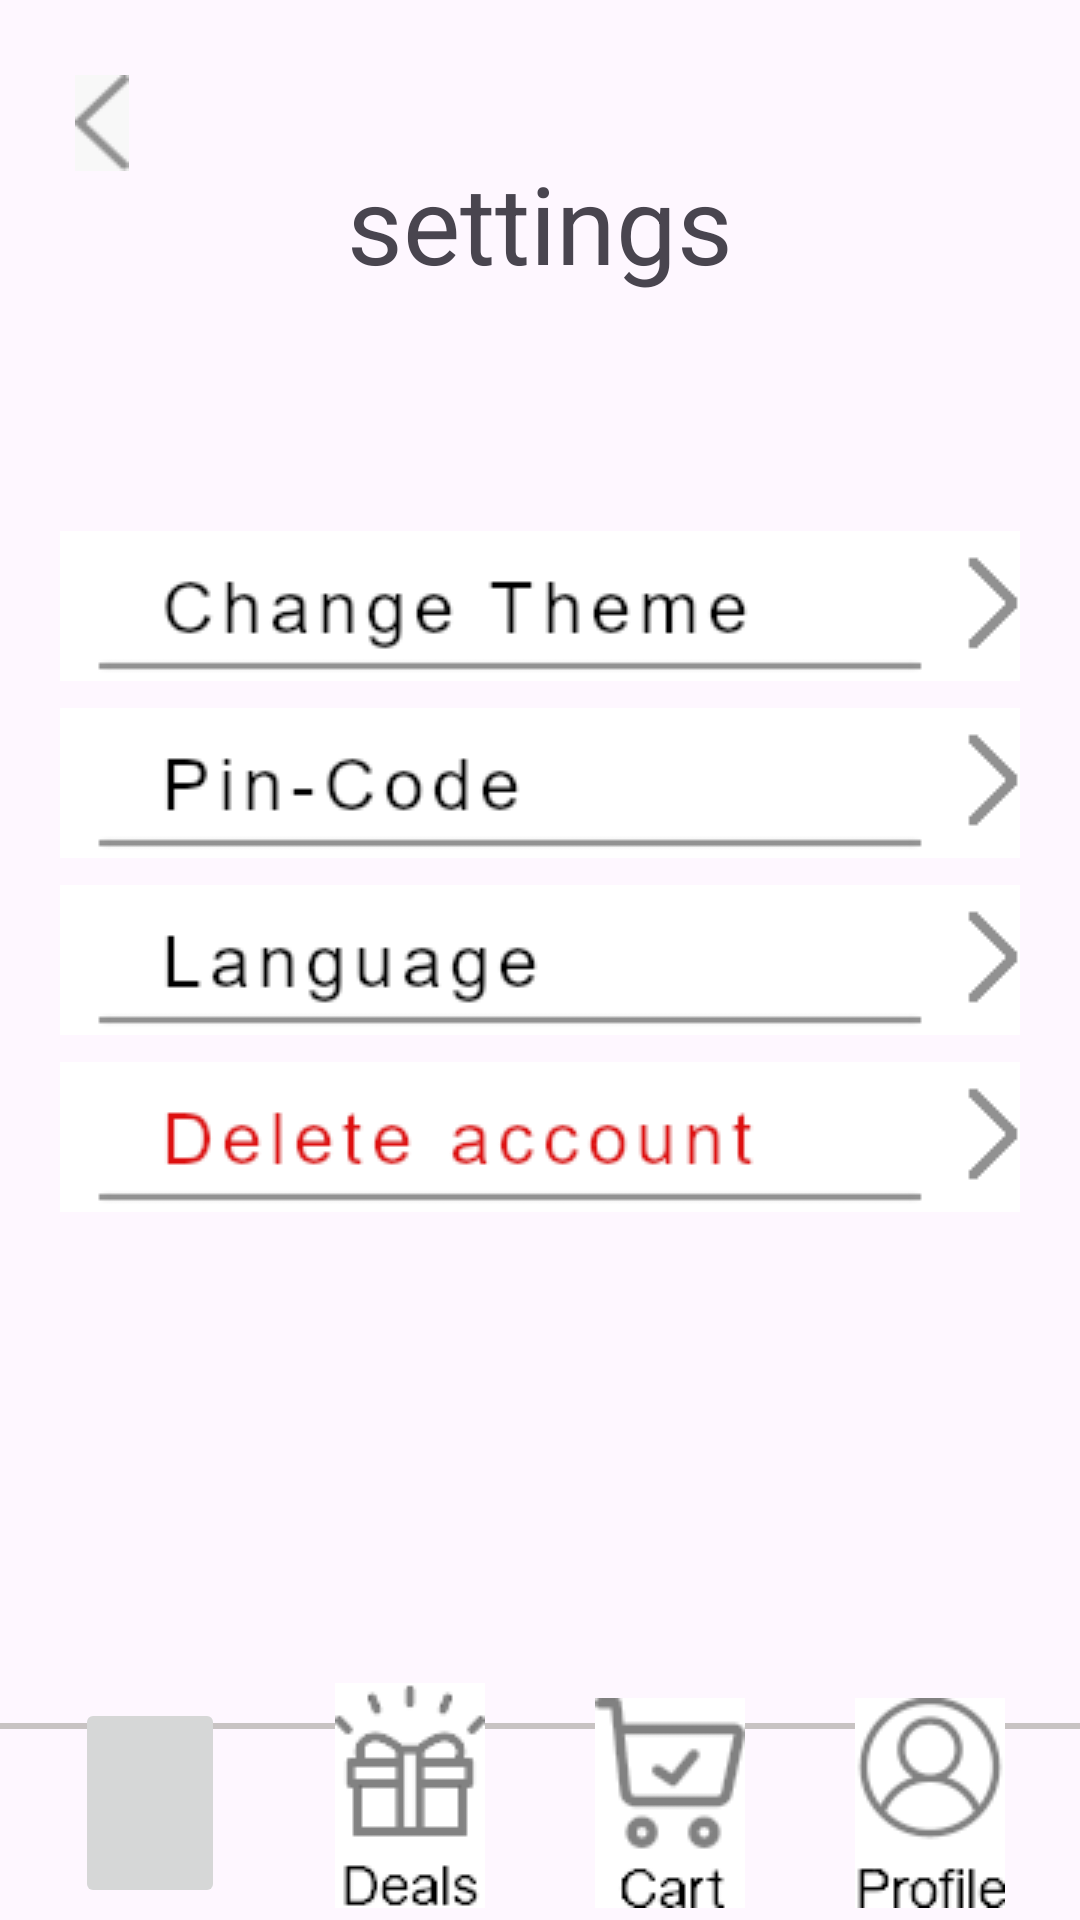

Named icons in this screenshot (1080*1920) and their centers, (x=x, y=y):
back: (x=102, y=123)
